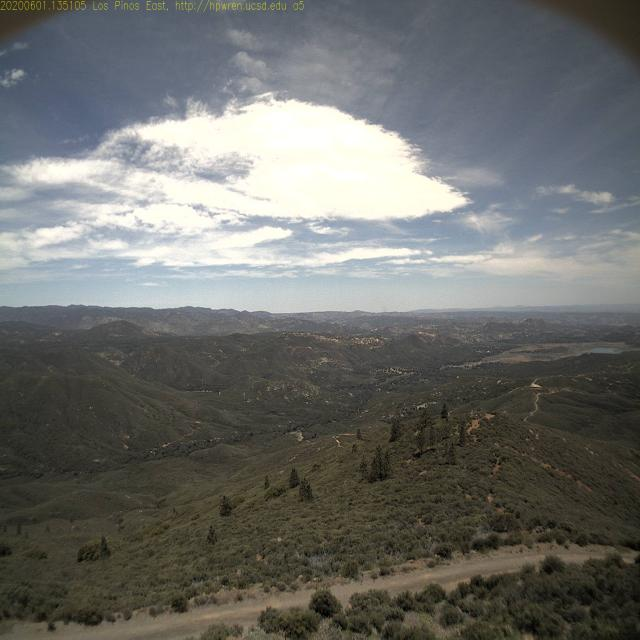smoke: (379, 298, 402, 320)
